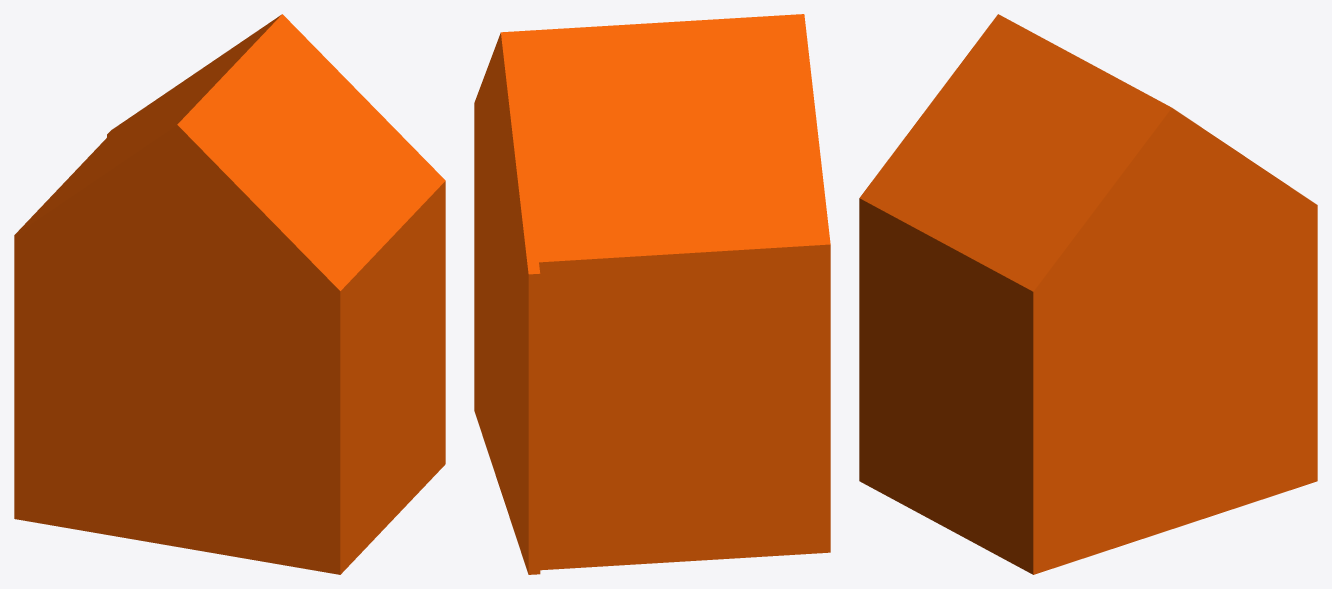
Rendered from DEHB01ALk00017vB.dae.
3 views of the same model, side by side, from view 1: azimuth 30°, elevation 25°; view 2: azimuth 150°, elevation 25°; view 3: azimuth 270°, elevation 25° (orthographic). The views are drawn at different scales.
Bounding box in the file's own units: 10.12 × 10.59 × 10.75.
